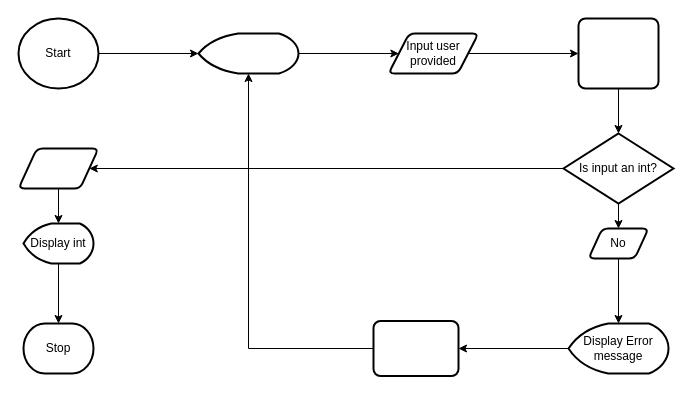
This 691x394 diagram has some shape labels left out. The centre of each missing label's shape, as x and y in pixels:
"Input integer": the point at 248,53
Check if input is an int.: the point at 618,53
Cycle back to beginning until Int provided: the point at 415,348
Yes: the point at 58,168
